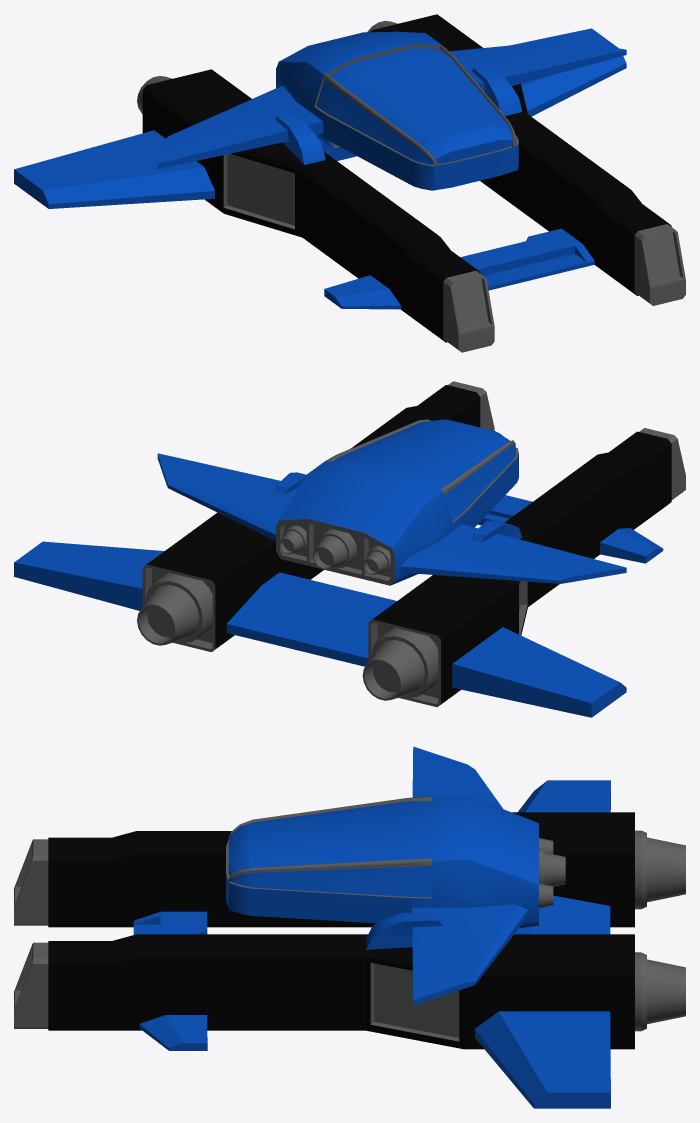
The model's file is ShipEnemyL3E2Combined.FBX.
The picture shows the model from 3 angles, top to bottom: view 1: azimuth 30°, elevation 25°; view 2: azimuth 150°, elevation 25°; view 3: azimuth 270°, elevation 25°; orthographic projection. The views are drawn at different scales.
Parts seen in each view (by area): view 1: Box003; view 2: Box003; view 3: Box003.
Part boxes in pixels (<box>): Box003: <box>14,14,685,352</box>; Box003: <box>14,381,685,717</box>; Box003: <box>14,746,685,1108</box>.
Size of the model in its own units: 755 by 171 by 687.
